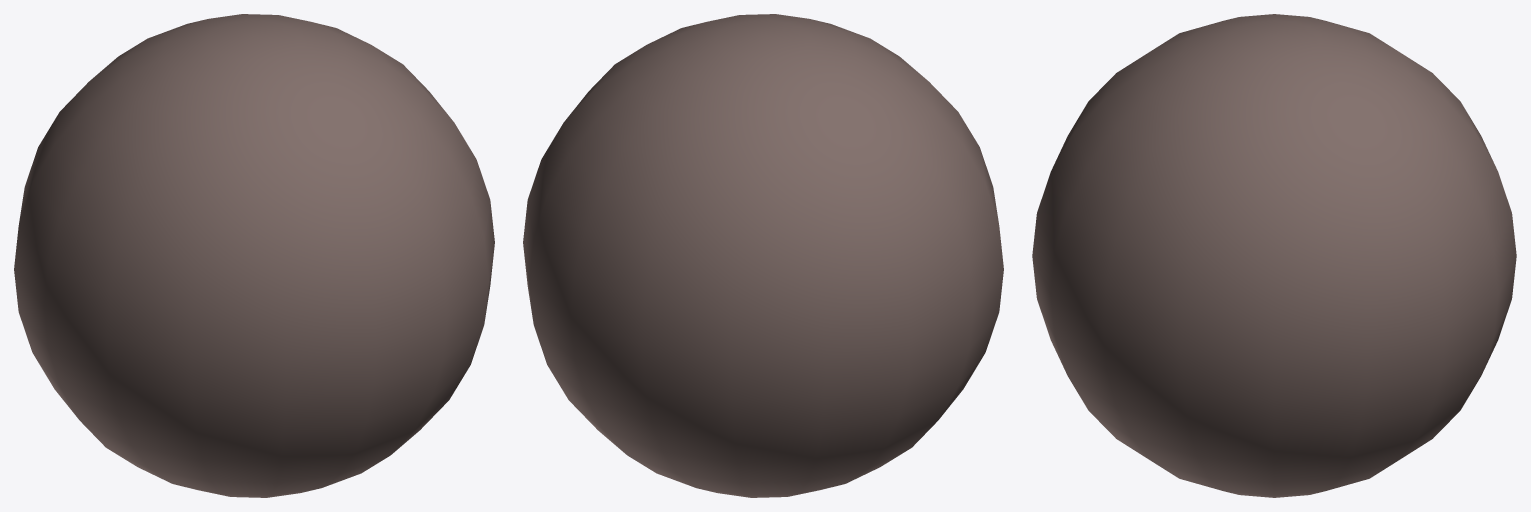
Rendered from Batu Menggelinding.fbx.
3 views of the same model, side by side, from view 1: azimuth 30°, elevation 25°; view 2: azimuth 150°, elevation 25°; view 3: azimuth 270°, elevation 25° (orthographic).
Parts seen in each view (by area): view 1: Sphere; view 2: Sphere; view 3: Sphere.
Part boxes in pixels (left/top/right/bottom): Sphere: left=14, top=14, right=494, bottom=497; Sphere: left=523, top=14, right=1003, bottom=497; Sphere: left=1032, top=14, right=1516, bottom=497.
Bounding box in the file's own units: 434 × 434 × 434.
